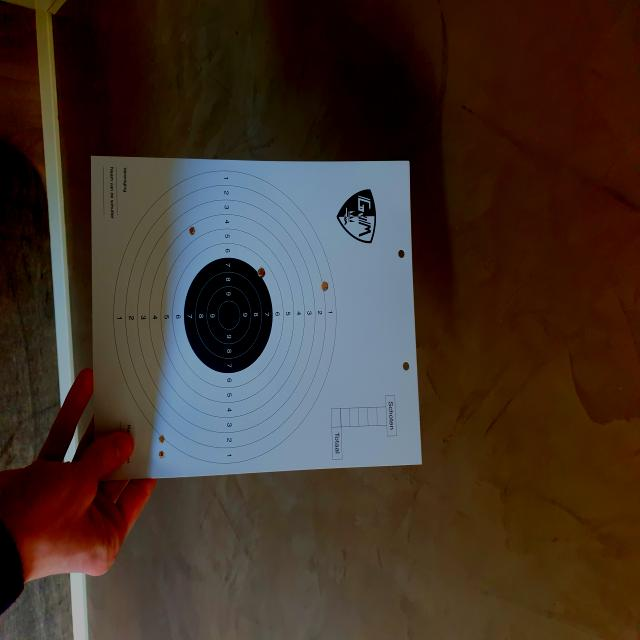0: (158, 450, 165, 460)
1: (158, 432, 165, 444)
2: (320, 280, 329, 292)
4: (189, 227, 195, 236)
7: (258, 267, 266, 279)
Target: (112, 170, 338, 467)
black_contour: (184, 258, 273, 374)
